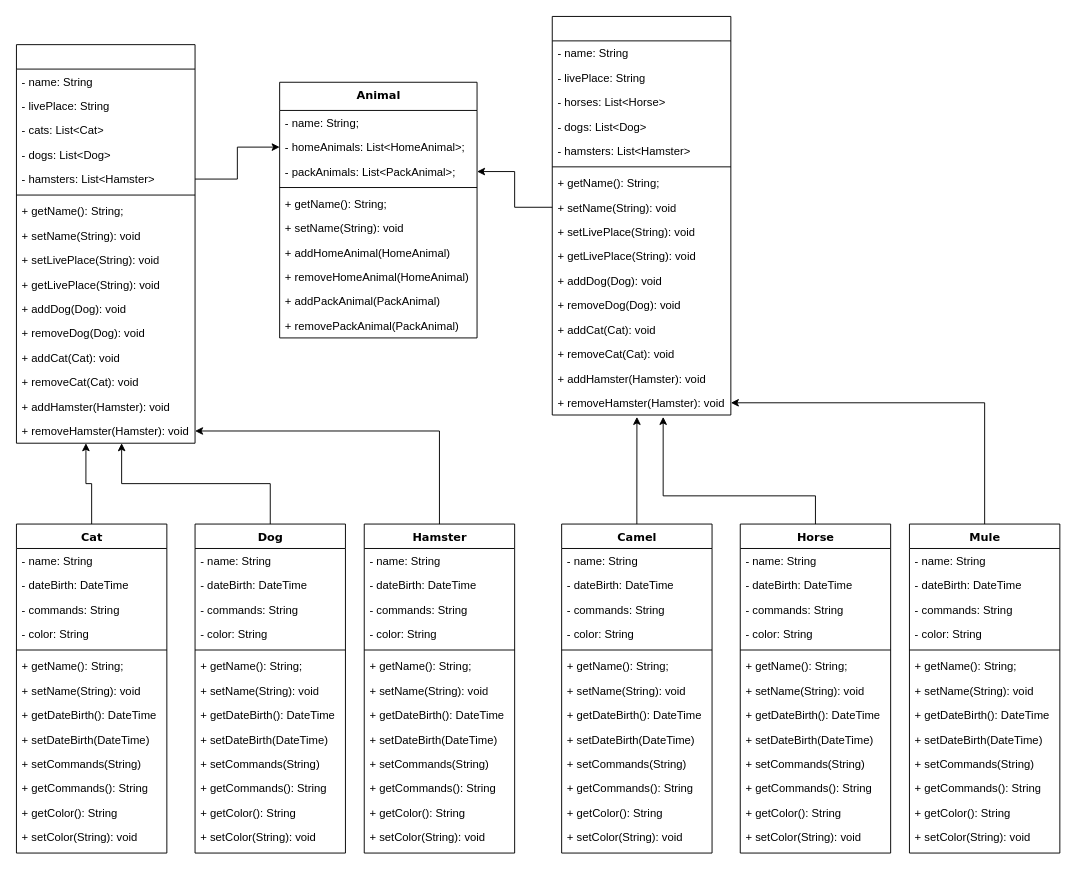
Some shapes in this 1076 by 870 pixel diagram are drawn without their labels. The box of each missing label's shape, as (x1, y1, x2, y2) in pixels:
HomeAnimal: (16, 44, 195, 443)
PackAnimal: (551, 16, 731, 415)
